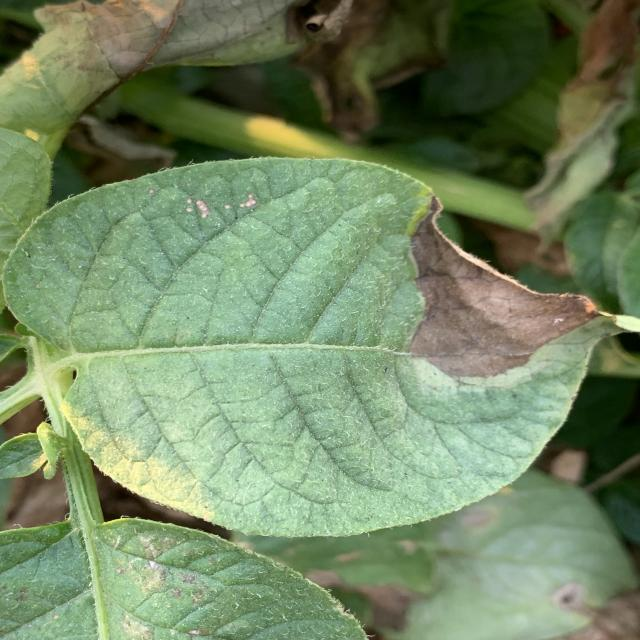lateblight: (410, 198, 607, 378)
